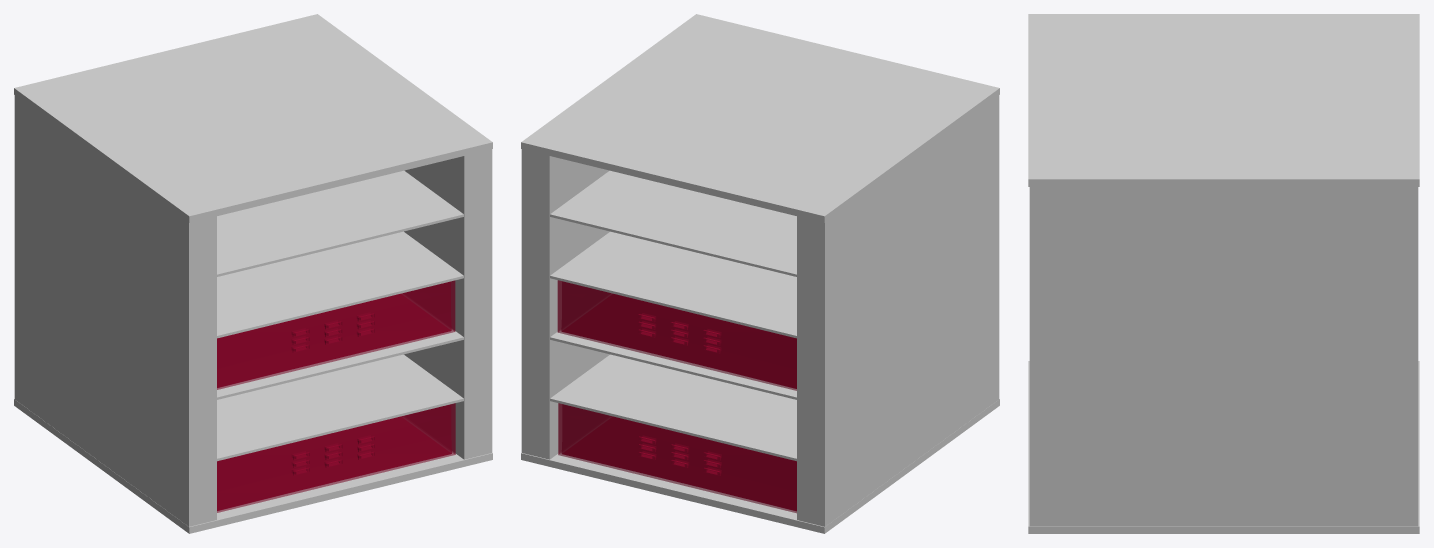
File: sh-bs0-vertical-shelves.glb
3 views of the same model, side by side, from view 1: azimuth 30°, elevation 25°; view 2: azimuth 150°, elevation 25°; view 3: azimuth 270°, elevation 25° (orthographic). The views are drawn at different scales.
Parts seen in each view (by area): view 1: Cube.003_Cube.008, Cube.016_Cube.003; view 2: Cube.003_Cube.008, Cube.016_Cube.003; view 3: Cube.003_Cube.008.
Boxes of the visible parts, x1=… form: Cube.003_Cube.008: x1=14, y1=14, x2=492, y2=533; Cube.016_Cube.003: x1=217, y1=280, x2=455, y2=512; Cube.003_Cube.008: x1=521, y1=14, x2=999, y2=533; Cube.016_Cube.003: x1=557, y1=280, x2=796, y2=513; Cube.003_Cube.008: x1=1028, y1=14, x2=1419, y2=533.
Bounding box in the file's own units: 1 × 1 × 1.
